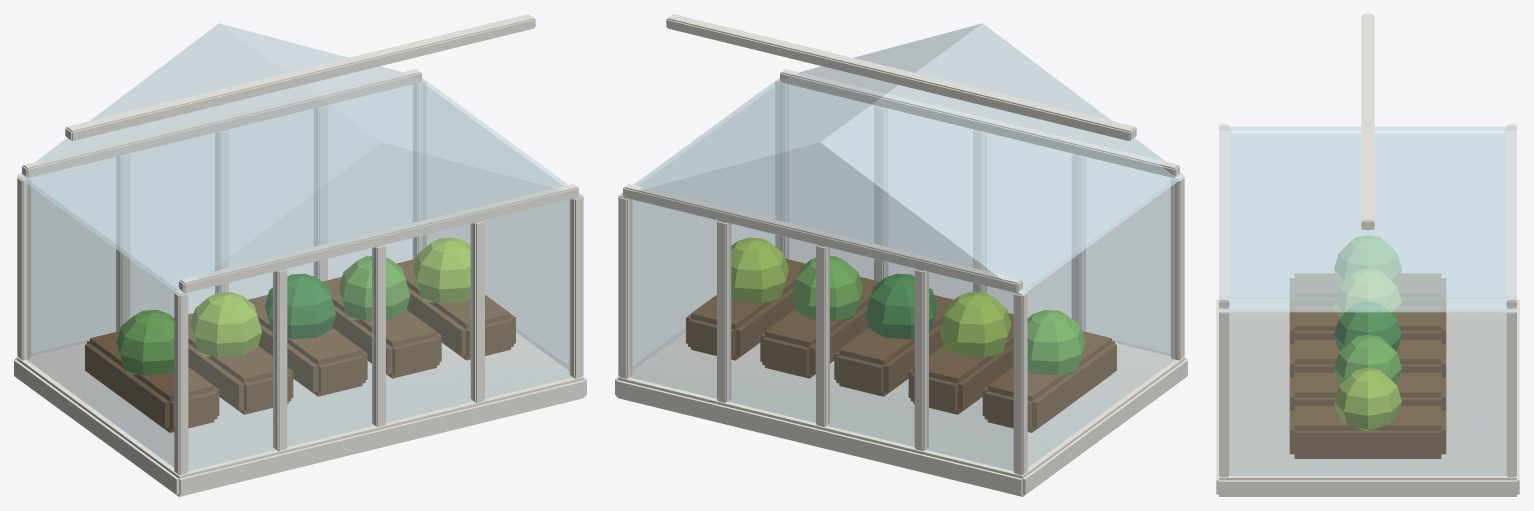
The model's file is greenhouse.glb.
The picture shows the model from 3 angles, left to right: view 1: azimuth 30°, elevation 25°; view 2: azimuth 150°, elevation 25°; view 3: azimuth 270°, elevation 25°; orthographic projection. The views are drawn at different scales.
Visible parts, largest first — view 1: greenhouse; view 2: greenhouse; view 3: greenhouse.
Part boxes in pixels (x1,y1,x2,y2): greenhouse: (14, 14, 586, 496); greenhouse: (615, 14, 1187, 496); greenhouse: (1216, 14, 1519, 496).
Bounding box in the file's own units: 1.88 × 1.22 × 1.16.
